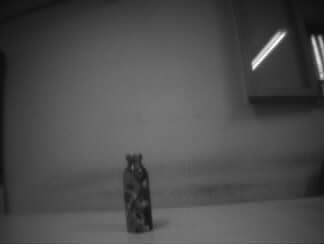Bottle: (122, 153, 154, 233)
